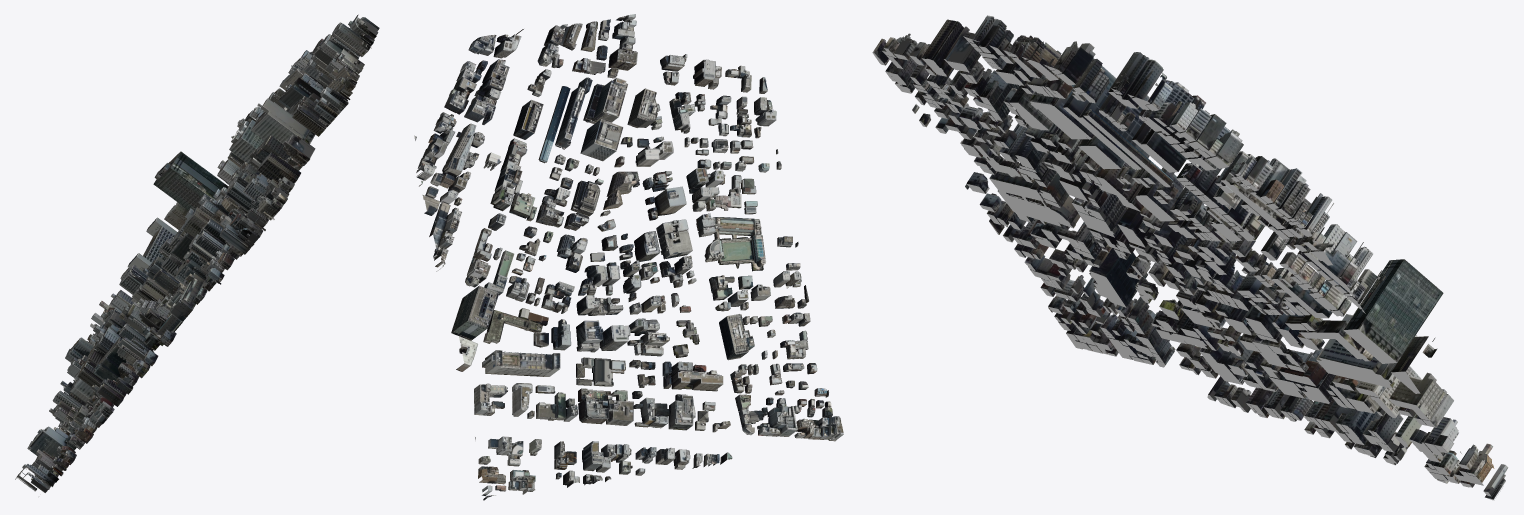
File: 9882_bldg_Building.glb
3 views of the same model, side by side, from view 1: azimuth 30°, elevation 25°; view 2: azimuth 150°, elevation 25°; view 3: azimuth 270°, elevation 25° (orthographic). The views are drawn at different scales.
Size of the model in its own units: 562 by 520 by 582.
10 materials, 9 textured.
